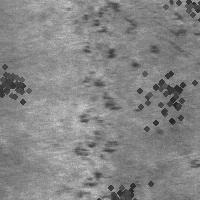rolled-in_scale: (71, 3, 129, 197), (118, 44, 200, 134), (121, 4, 192, 72), (91, 170, 147, 200), (0, 59, 34, 107), (171, 0, 200, 26)
